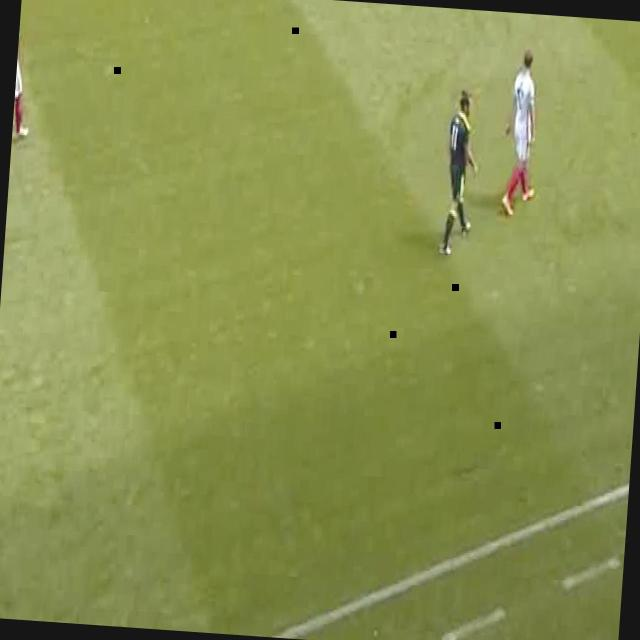player-white: (499, 48, 545, 219), (440, 88, 482, 256), (11, 0, 37, 154)
